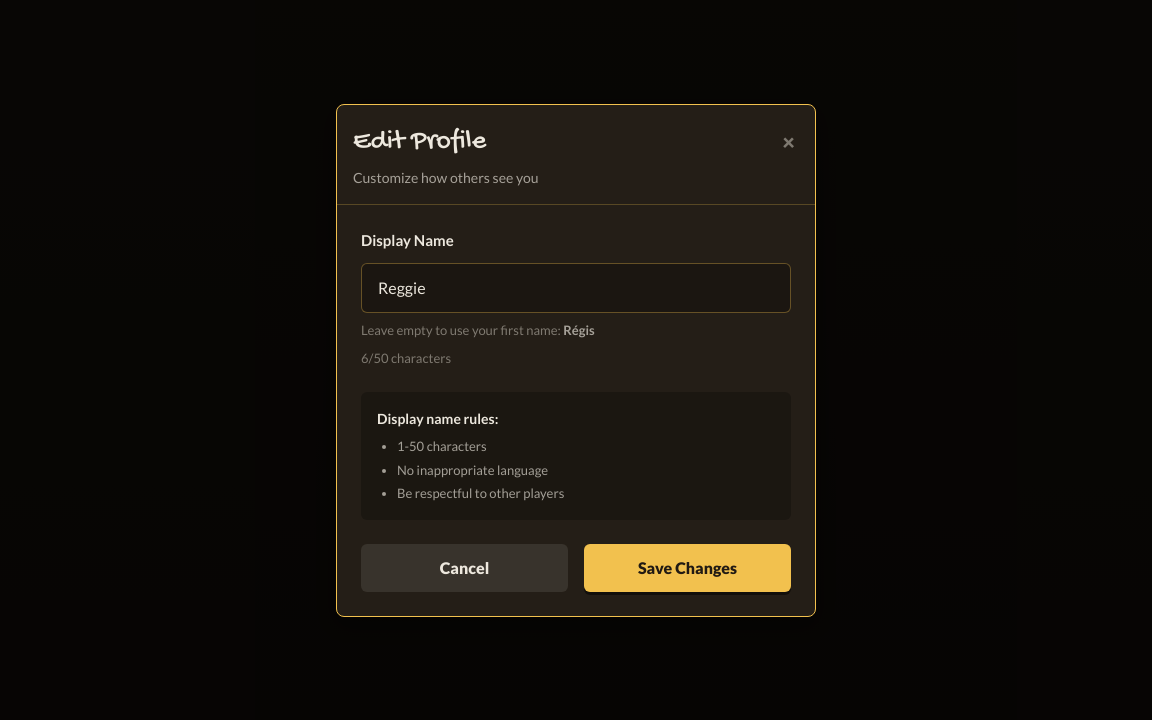
ProfileEditModal › updates the character counter as the name changes
This screenshot has width=1152, height=720.
Replace the text in the field labelled "Display Name" with "Newname" at (576, 288), box [361,263,791,313]
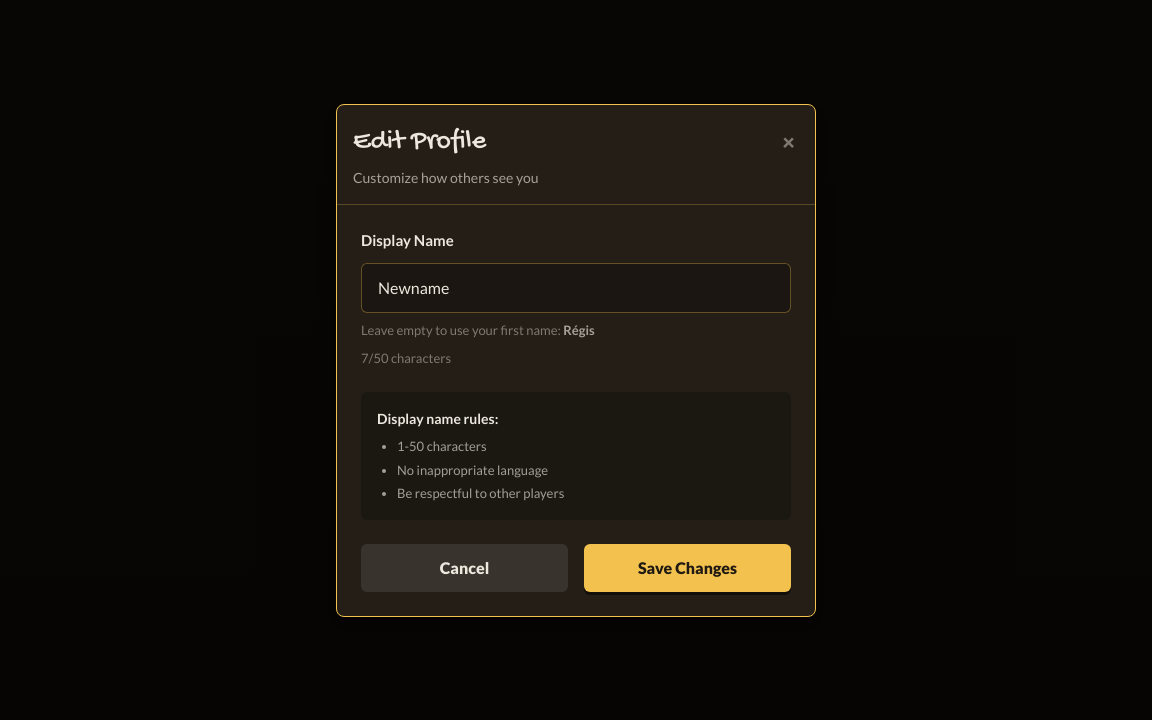
Expected: the button "Save Changes" is enabled, [584,544,791,592]
Expected: the text "7/50 characters" is shown, [361,350,451,366]
